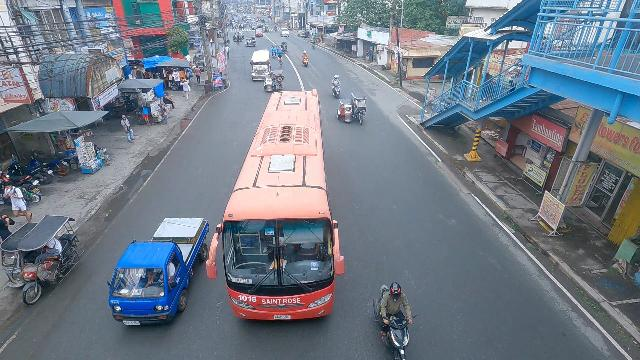bus: (206, 90, 345, 320)
car: (250, 23, 257, 30), (255, 31, 263, 37)
jeepney: (250, 49, 270, 80)
motorcycle: (374, 283, 413, 360), (331, 74, 341, 98), (302, 49, 309, 70), (271, 46, 277, 58), (274, 25, 278, 32)
truck: (107, 218, 209, 325)
van: (281, 27, 290, 37)
